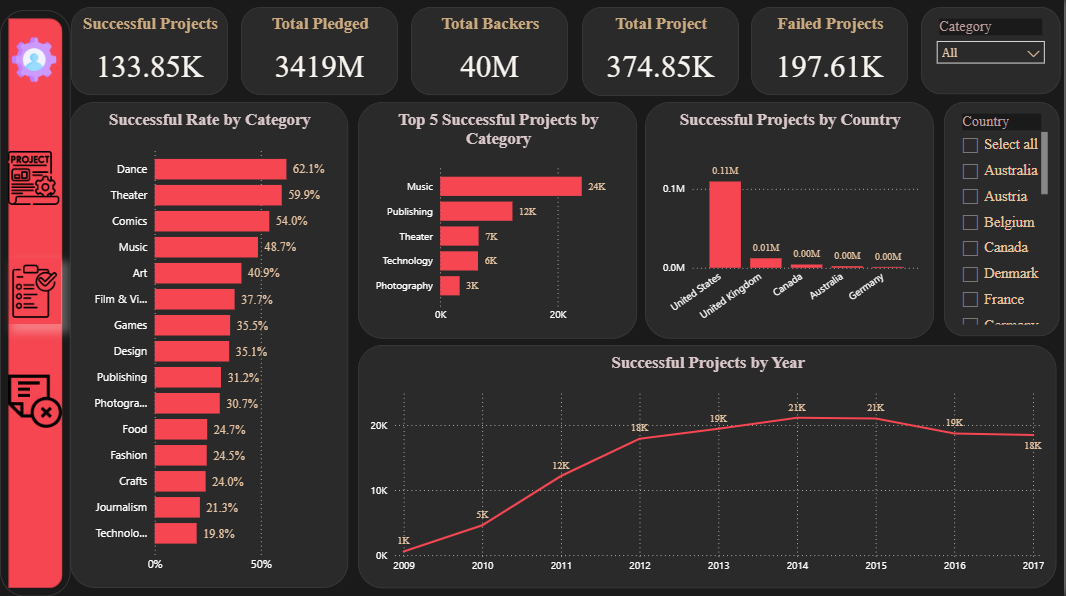

Layout of this report page (visuals, bound fields, positions):
{"tool":"powerbi","page":{"name":"Successful Project","canvas":[1280,720],"ordinal":2},"visuals":[{"type":"shape","box":[0,14.3,85.3,706.1],"z":0,"group":"g1"},{"type":"image","box":[9.6,445.1,64.7,79.8],"z":1000,"group":"g1"},{"type":"image","box":[10,313.1,64.4,80.1],"z":2000,"group":"g1"},{"type":"group","id":"g1","title":"Group 1","box":[0,14.3,85.8,705.1],"z":3000},{"type":"image","box":[8.6,172.5,64.4,88.7],"z":3000,"group":"g1"},{"type":"card","title":"Total Project","fields":{"Values":["Measure.Total Project"]},"box":[700.2,10.5,188.6,107.4],"z":3001},{"type":"card","title":"Successful Projects","fields":{"Values":["Measure.Successful Projects"]},"box":[85.8,10.5,189,106.4],"z":3002},{"type":"card","title":"Total Backers","fields":{"Values":["Measure.Total Backers"]},"box":[495.4,10.5,189,106.4],"z":3003},{"type":"card","title":"Total Pledged","fields":{"Values":["Measure.Total Pledged"]},"box":[290.6,10.5,189,106.4],"z":3004},{"type":"card","title":"Failed Projects","fields":{"Values":["Measure.Failed Project"]},"box":[904.5,10.5,189,106.4],"z":3005},{"type":"slicer","fields":{"Values":["kickstarter_projects.Category"]},"box":[1109.3,10.5,167.9,104.6],"z":3006},{"type":"slicer","fields":{"Values":["kickstarter_projects.Country"]},"box":[1136.9,125.2,139,282.2],"z":3007},{"type":"barChart","title":"Top 5 Successful Projects by Category","fields":{"Category":["kickstarter_projects.Category"],"Y":["Measure.Successful Projects"]},"box":[430.5,125.2,336.1,284.6],"z":3008},{"type":"barChart","fields":{"Category":["kickstarter_projects.Category"],"Y":["Measure.Successful Rate"]},"box":[84.5,125.2,334.5,584.5],"z":3009},{"type":"lineChart","fields":{"Category":["kickstarter_projects.Launched.Variation.Date Hierarchy.Year"],"Y":["Measure.Successful Projects"]},"box":[430.5,417.6,840.9,293.2],"z":3010},{"type":"columnChart","fields":{"Category":["kickstarter_projects.Country"],"Y":["Measure.Successful Projects"]},"box":[776.6,125.2,347.5,284.6],"z":3011},{"type":"image","box":[10,27.5,62.9,93],"z":4000,"group":"g1"}]}

Visuals, with their boxes in screenshot pixels (x1, y1, x2, y2), scaled from the page's 1280x720 canvas onto the 1066x596 screenshot:
shape: box=[0, 12, 71, 595]
image: box=[8, 368, 62, 435]
image: box=[8, 259, 62, 325]
"Group 1" group: box=[0, 12, 71, 595]
image: box=[7, 143, 61, 216]
"Total Project" card: box=[583, 9, 740, 98]
"Successful Projects" card: box=[71, 9, 229, 97]
"Total Backers" card: box=[413, 9, 570, 97]
"Total Pledged" card: box=[242, 9, 399, 97]
"Failed Projects" card: box=[753, 9, 911, 97]
slicer - kickstarter_projects.Category: box=[924, 9, 1064, 95]
slicer - kickstarter_projects.Country: box=[947, 104, 1063, 337]
"Top 5 Successful Projects by Category" barChart: box=[359, 104, 638, 339]
barChart - kickstarter_projects.Category x Measure.Successful Rate: box=[70, 104, 349, 587]
lineChart - kickstarter_projects.Launched.Variation.Date Hierarchy.Year x Measure.Successful Projects: box=[359, 346, 1059, 588]
columnChart - kickstarter_projects.Country x Measure.Successful Projects: box=[647, 104, 936, 339]
image: box=[8, 23, 61, 100]
